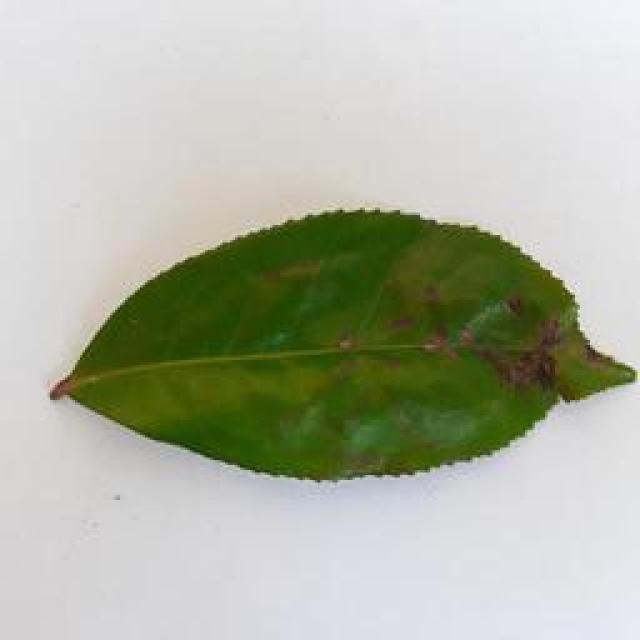Helopeltis: (47, 197, 640, 487)
